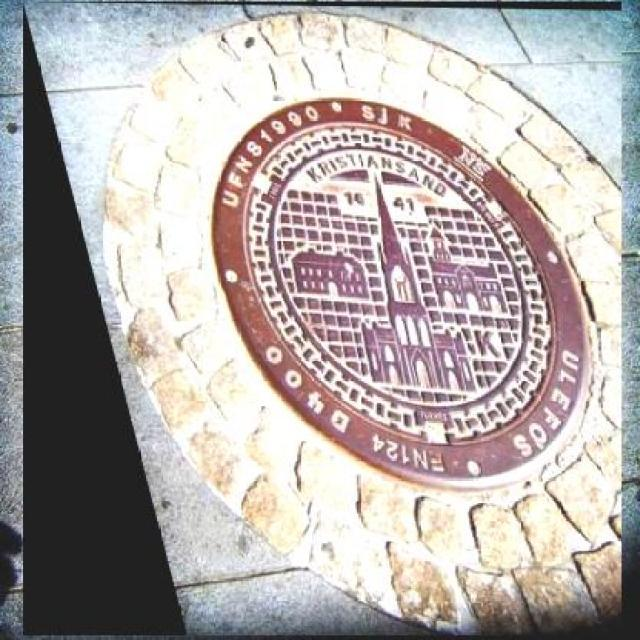Manhole: (23, 2, 622, 636)
